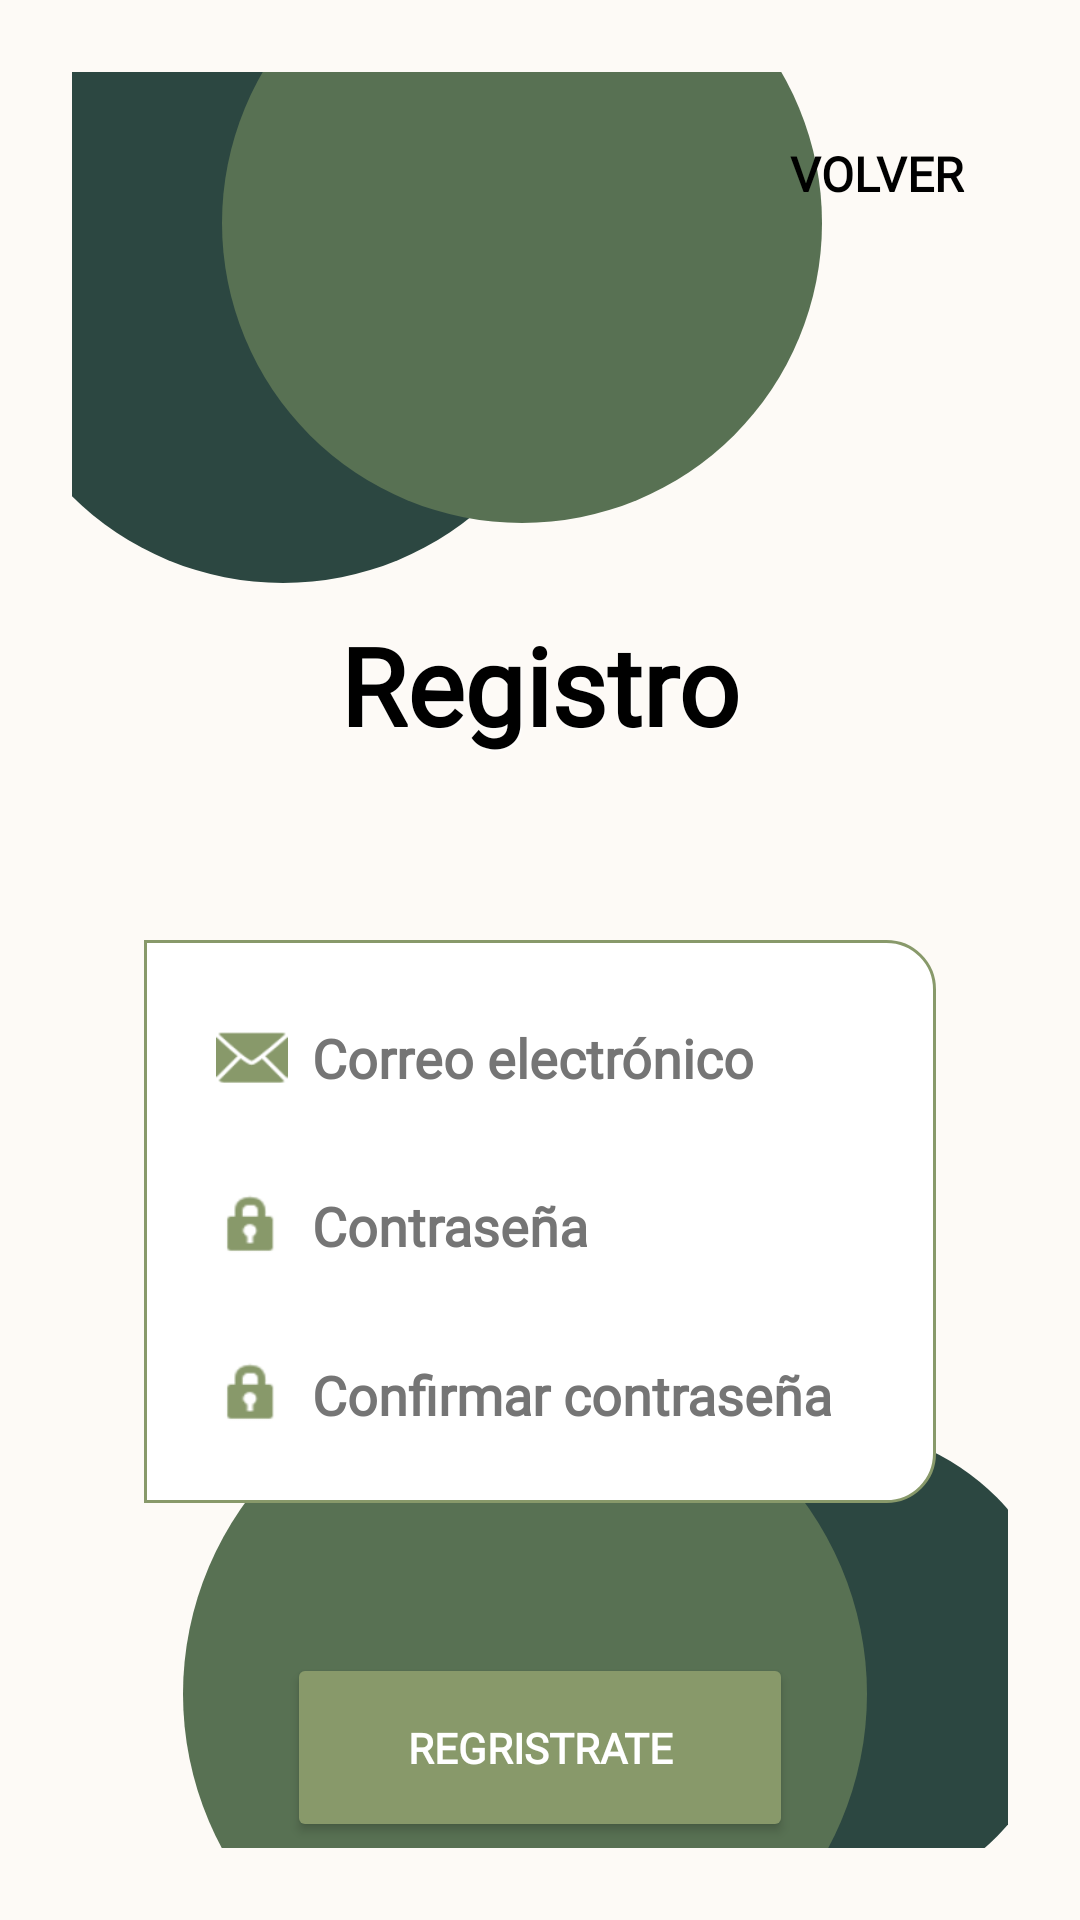

Point at icon controls on the screen. Image size 1080px×1920px, points as (x=x, y=y).
email: (x=252, y=1057)
lock idle: (x=250, y=1223), (x=250, y=1391)
